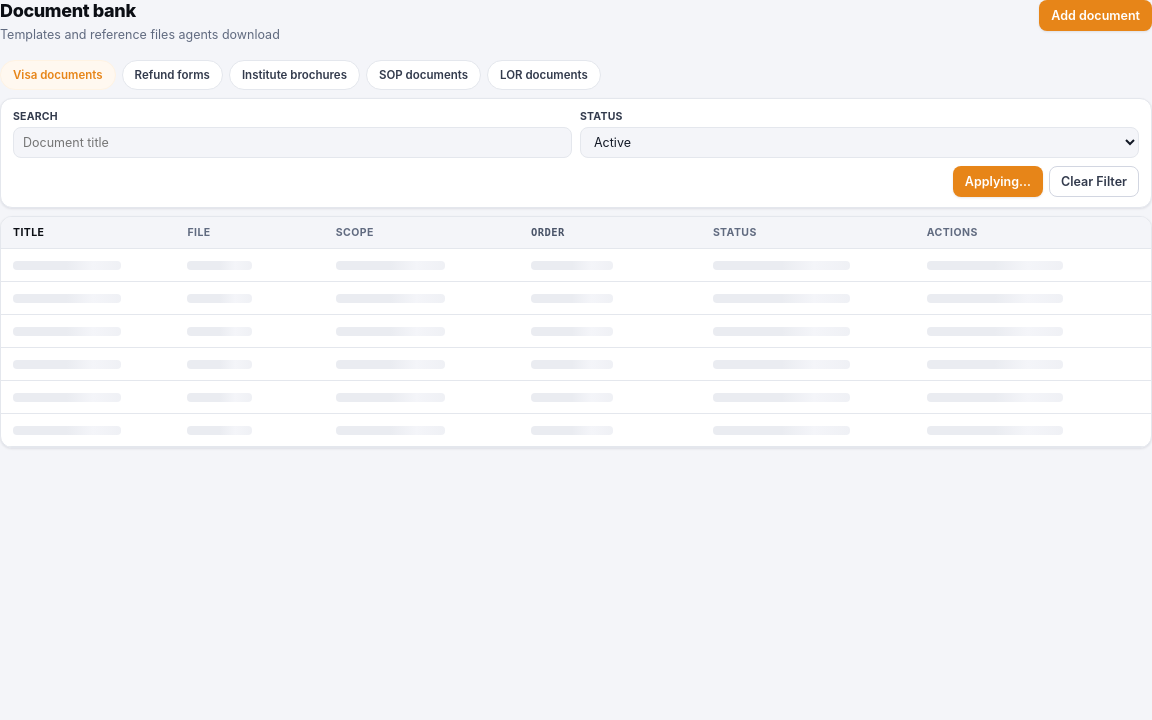
Test: admin resource pages › offers a file input when storage IS configured
Click the button "Add document": (1096, 16) [1039, 0, 1151, 31]
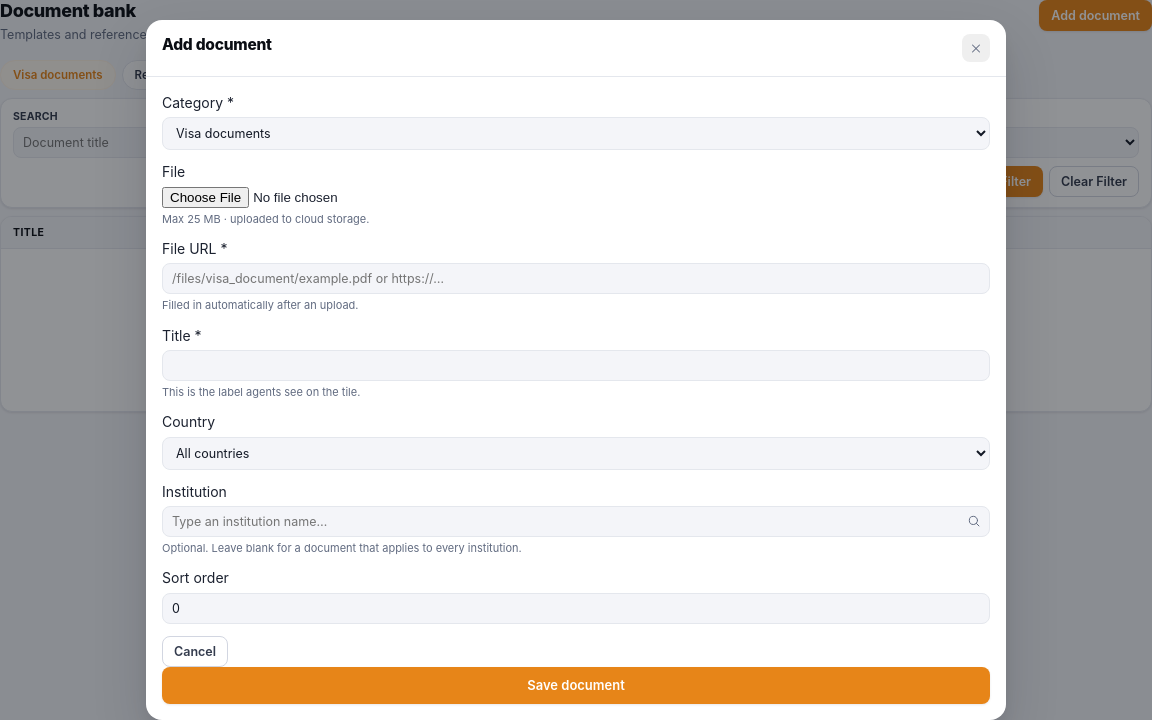
expect the dialog is shown: met
expect the file field labelled "File" is shown: met, box [162, 187, 415, 208]
expect the text "Max 25 MB · uploaded to cloud storage." is shown: met, box [162, 212, 369, 226]
